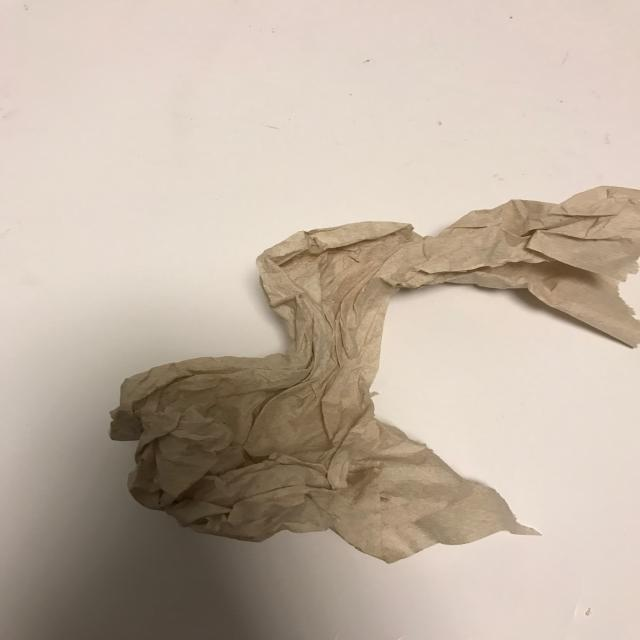trash: (108, 185, 639, 564)
